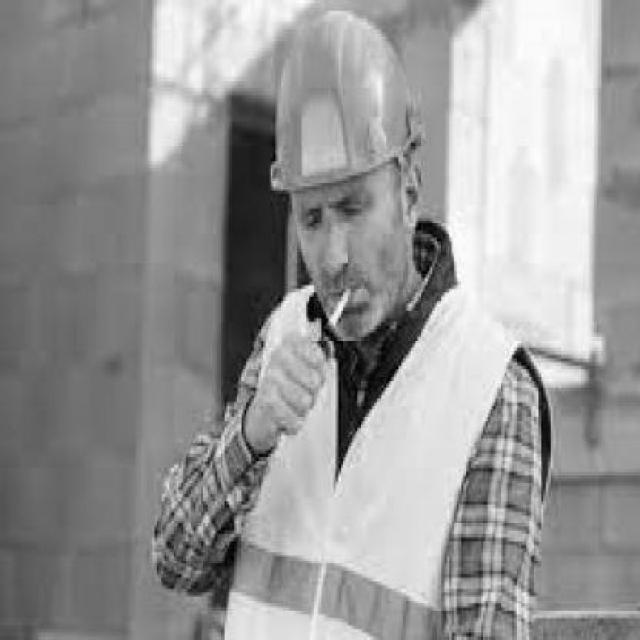cigarette: (304, 271, 362, 372)
